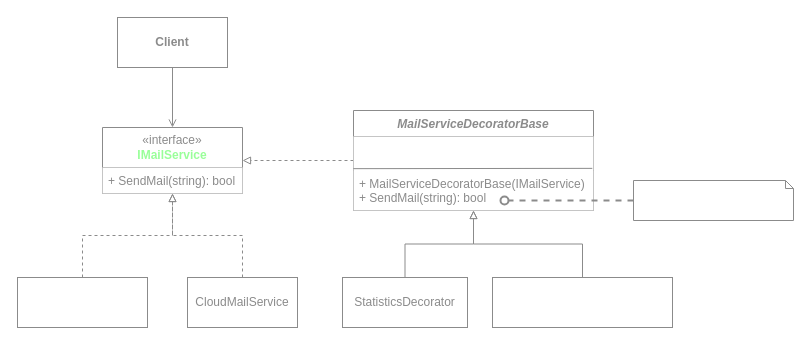
This 811x345 diagram has some shape labels left out. The centre of each missing label's shape, as x and y in pixels:
- _mailService: IMailService: (473,153)
_mailService.SendMail(string): (713,200)
MessageDatabaseDecorator: (582,302)
OnPremiseMailService: (82,302)
